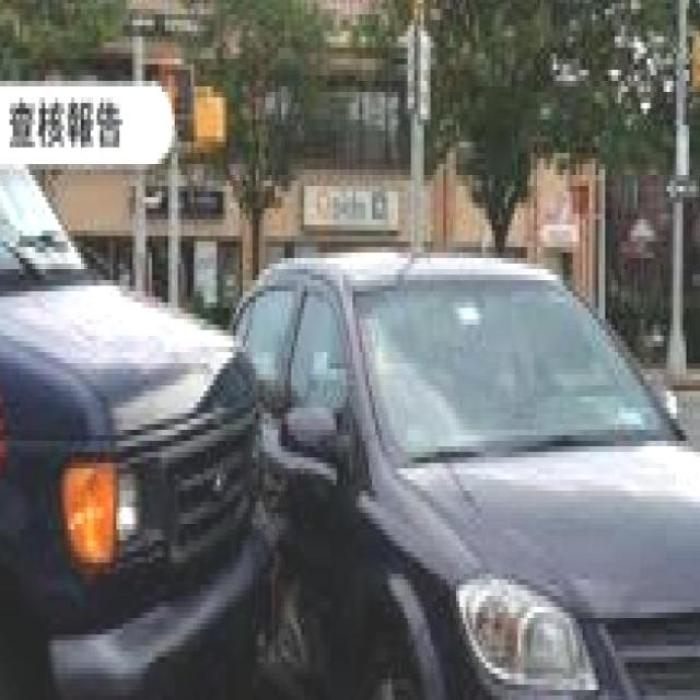Accident: (20, 196, 452, 700)
